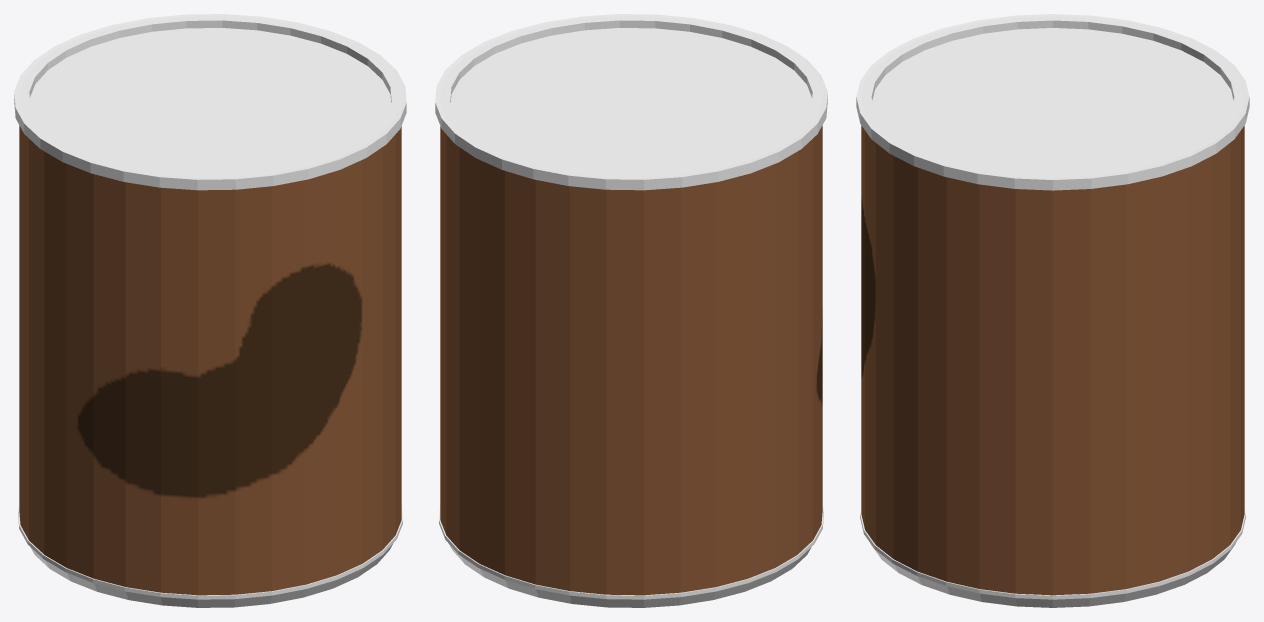
The model's file is BEANS.glb.
3 renders of one model, left to right at view 1: azimuth 30°, elevation 25°; view 2: azimuth 150°, elevation 25°; view 3: azimuth 270°, elevation 25°, orthographic.
Parts seen in each view (by area): view 1: Cylinder; view 2: Cylinder; view 3: Cylinder.
Boxes of the visible parts, <box> form: Cylinder: <box>14,14,406,607</box>; Cylinder: <box>435,14,827,607</box>; Cylinder: <box>856,14,1249,607</box>.
Bounding box in the file's own units: 2.05 × 2.49 × 2.05.
2 materials, 1 textured.
